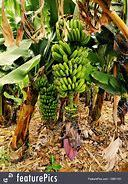banana: (50, 23, 93, 105)
